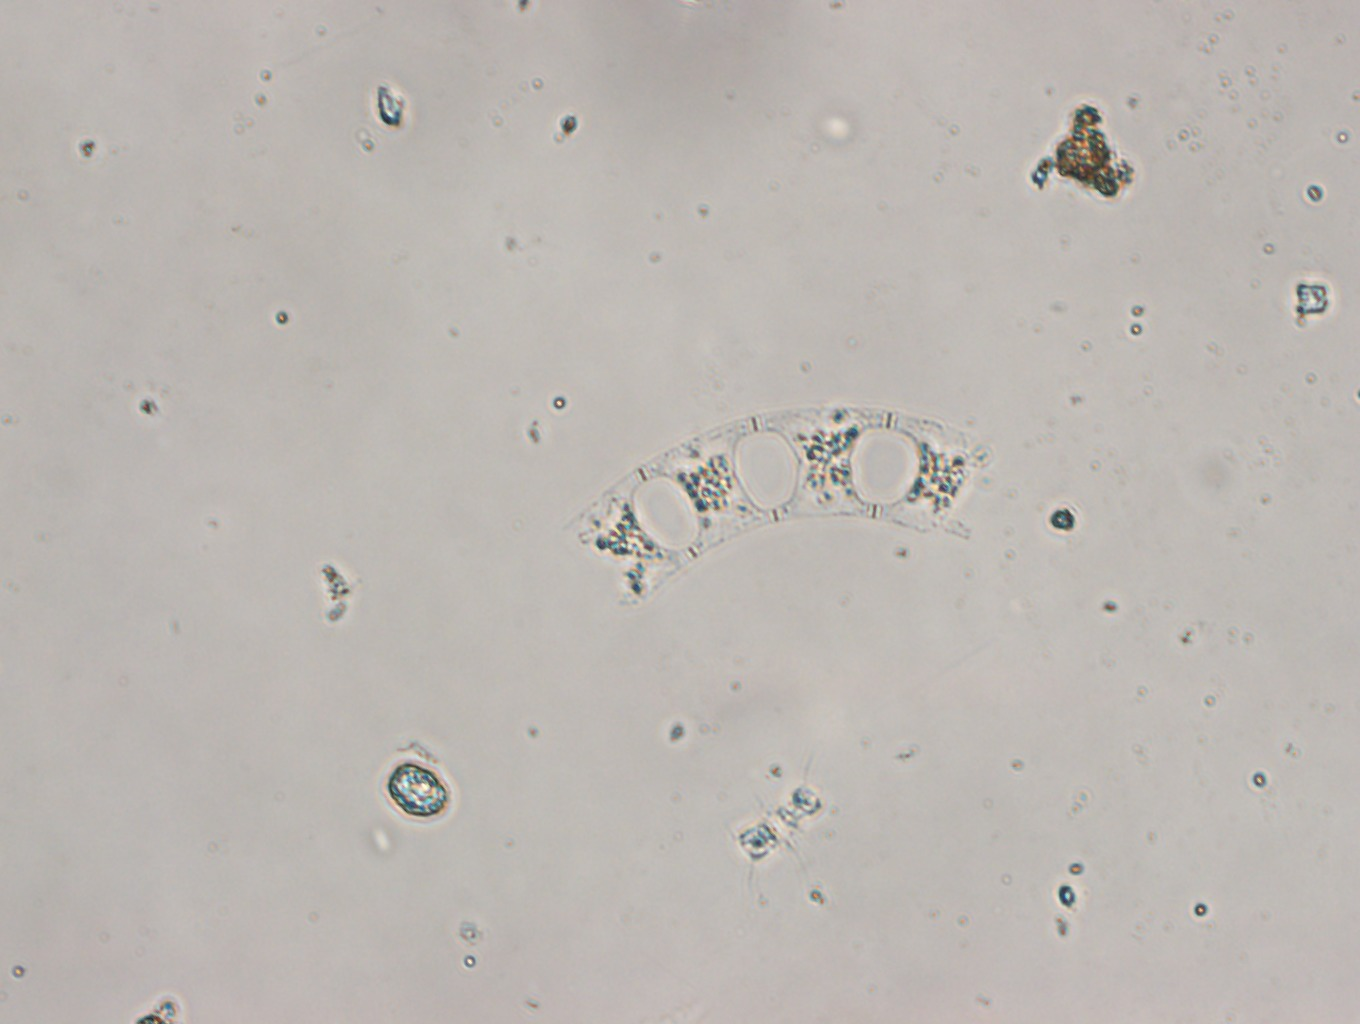eucampia: (566, 406, 994, 595)
